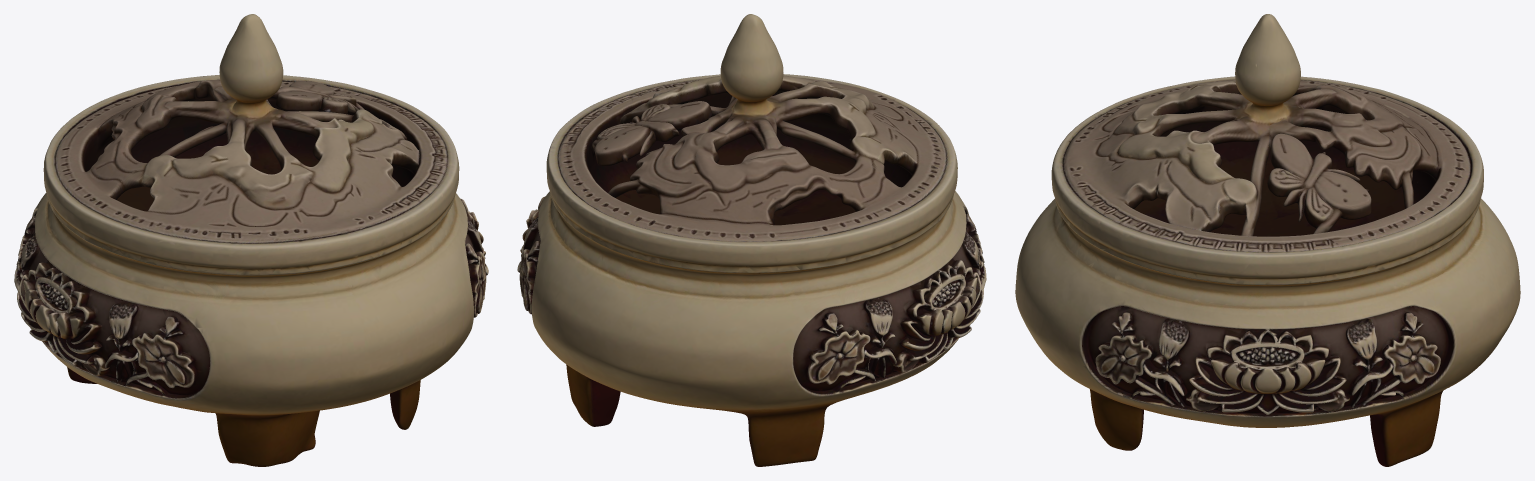
The model's file is ornate brass incense burner 3d model.glb.
The picture shows the model from 3 angles, left to right: view 1: azimuth 30°, elevation 25°; view 2: azimuth 150°, elevation 25°; view 3: azimuth 270°, elevation 25°; orthographic projection. The views are drawn at different scales.
Parts seen in each view (by area): view 1: tripo_node_75f99105-003b-48be-bc27-fecb94eb71c8; view 2: tripo_node_75f99105-003b-48be-bc27-fecb94eb71c8; view 3: tripo_node_75f99105-003b-48be-bc27-fecb94eb71c8.
Boxes of the visible parts, <box> form: tripo_node_75f99105-003b-48be-bc27-fecb94eb71c8: <box>14,14,488,466</box>; tripo_node_75f99105-003b-48be-bc27-fecb94eb71c8: <box>517,14,986,466</box>; tripo_node_75f99105-003b-48be-bc27-fecb94eb71c8: <box>1015,14,1520,466</box>.
Bounding box in the file's own units: 0.9976 × 0.8776 × 0.9999.
1 material, 1 textured.
